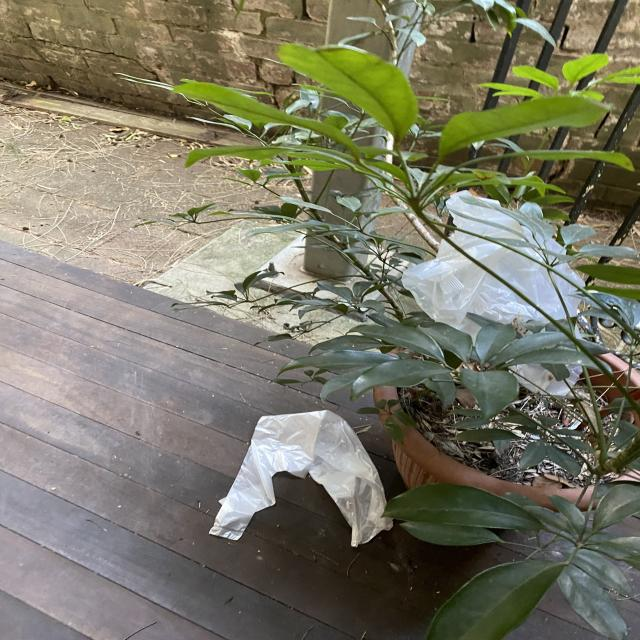bag: (400, 190, 589, 398), (212, 410, 395, 548)
